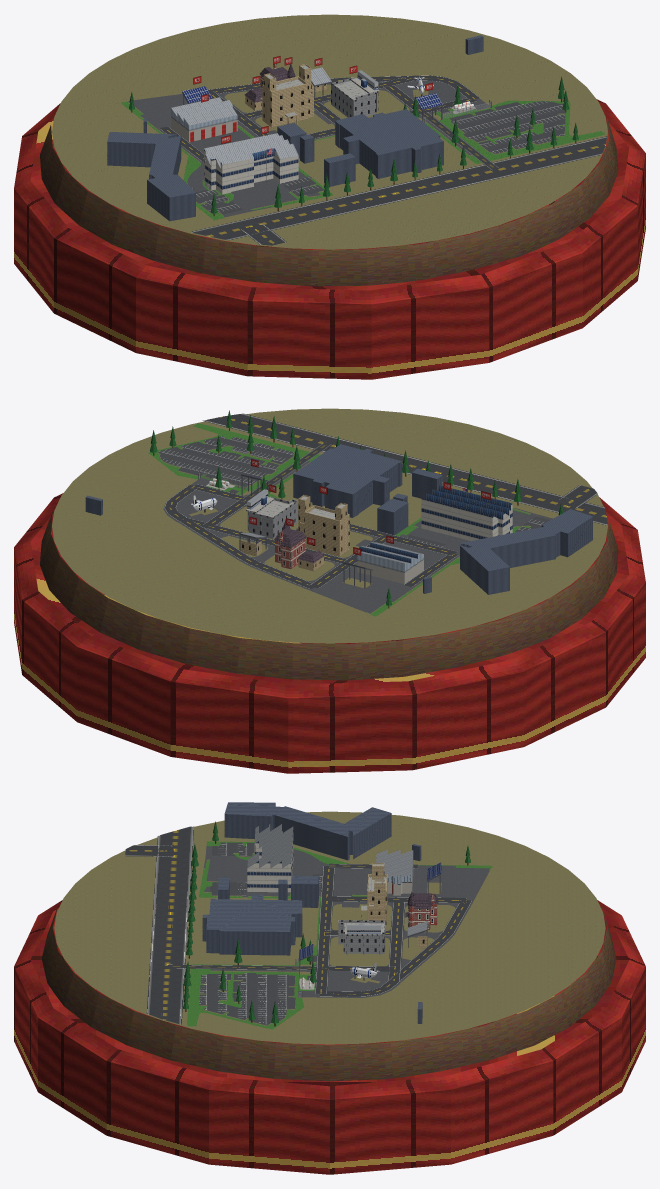
Rendered from hftc_globe.glb.
3 renders of one model, top to bottom at view 1: azimuth 30°, elevation 25°; view 2: azimuth 150°, elevation 25°; view 3: azimuth 270°, elevation 25°, orthographic.
Visible parts, largest first — view 1: Plinth, Ground, Buildings, Neighbors, Props; view 2: Plinth, Ground, Neighbors, Buildings, Props; view 3: Plinth, Ground, Neighbors, Buildings, Props.
Boxes of the visible parts, left/top/right/bottom form: Plinth: left=14, top=99, right=645, bottom=379; Ground: left=52, top=14, right=607, bottom=249; Buildings: left=171, top=64, right=442, bottom=194; Neighbors: left=107, top=35, right=483, bottom=221; Props: left=129, top=68, right=578, bottom=216; Plinth: left=14, top=493, right=645, bottom=773; Ground: left=52, top=408, right=607, bottom=643; Neighbors: left=85, top=444, right=592, bottom=594; Buildings: left=239, top=474, right=512, bottom=588; Props: left=150, top=410, right=563, bottom=608; Plinth: left=14, top=900, right=645, bottom=1174; Ground: left=54, top=811, right=605, bottom=1044; Neighbors: left=202, top=802, right=422, bottom=1023; Buildings: left=247, top=824, right=441, bottom=974; Props: left=183, top=821, right=470, bottom=1026.
Bounding box in the file's own units: 5.06 × 1.58 × 5.06.
Materials: 29 (29 with a texture image).
